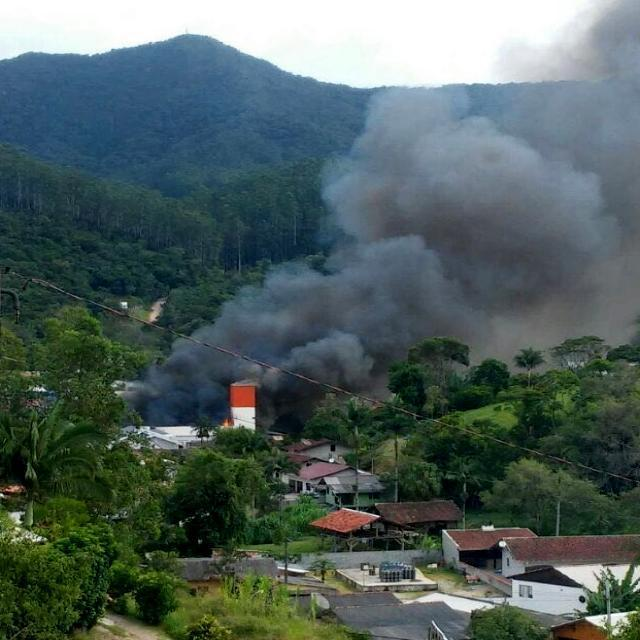Smoke: (169, 0, 640, 409)
